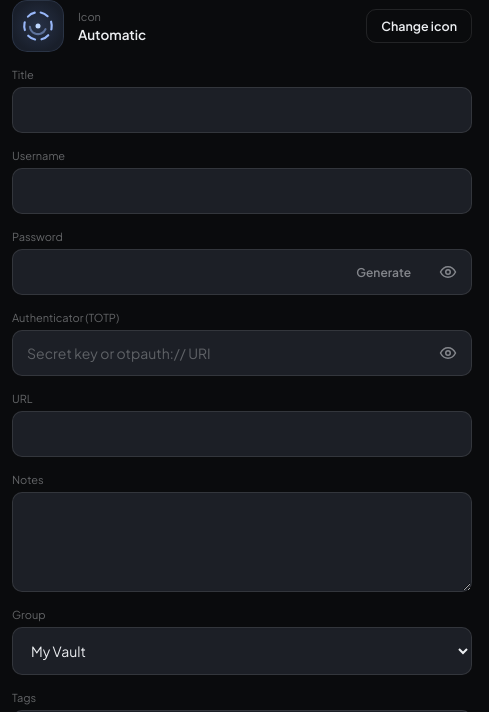
Test: EntryForm › generates a password using the shared generator policy and reveals it
This screenshot has width=489, height=712.
expect the password field labelled "Password" is empty: met, box [13, 250, 342, 294]
Click the button "Generate" at x=384, y=272, box [342, 264, 425, 280]
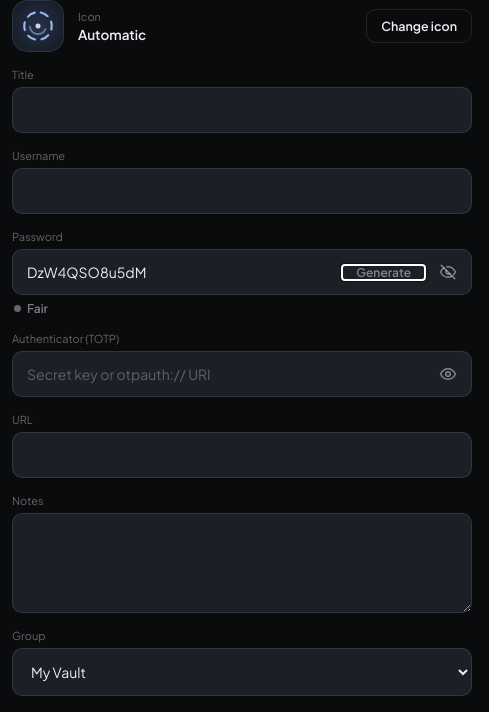
expect the field labelled "Password" shows its text: met, box [13, 250, 342, 294]
